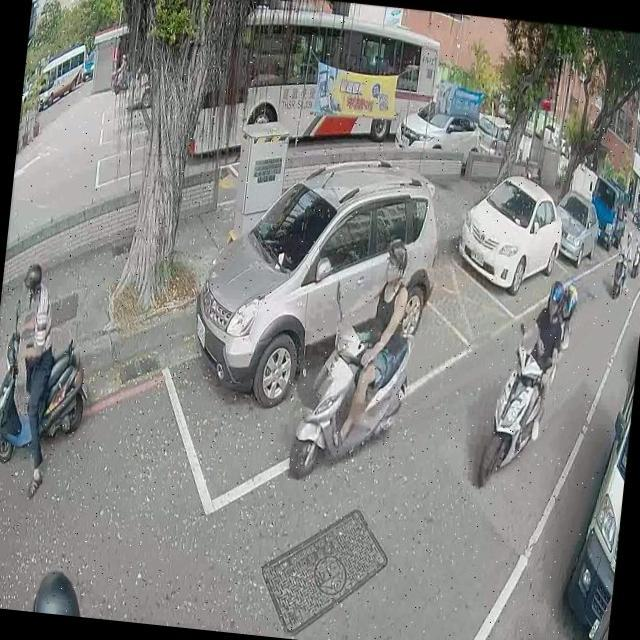person: (322, 226, 419, 451), (0, 247, 64, 500), (502, 271, 568, 444), (523, 282, 580, 434), (30, 564, 86, 616), (616, 230, 634, 293), (115, 50, 128, 86), (635, 228, 640, 255)
